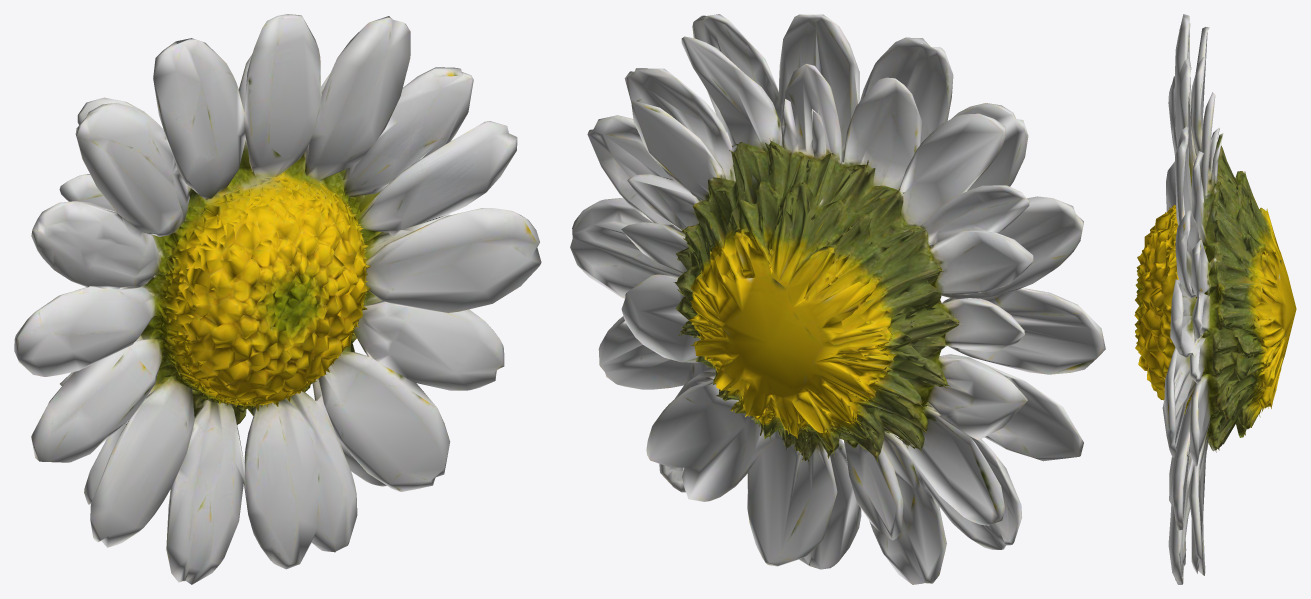
File: fl-flower-chamomile.glb
3 views of the same model, side by side, from view 1: azimuth 30°, elevation 25°; view 2: azimuth 150°, elevation 25°; view 3: azimuth 270°, elevation 25° (orthographic). The views are drawn at different scales.
Visible parts, largest first — view 1: node_0; view 2: node_0; view 3: node_0.
Boxes of the visible parts, x1,y1,x2,y2 form: node_0: [14, 14, 541, 584]; node_0: [570, 14, 1105, 584]; node_0: [1134, 14, 1296, 584].
Size of the model in its own units: 1.11 by 1.11 by 0.3268.
Materials: 1 (1 with a texture image).
